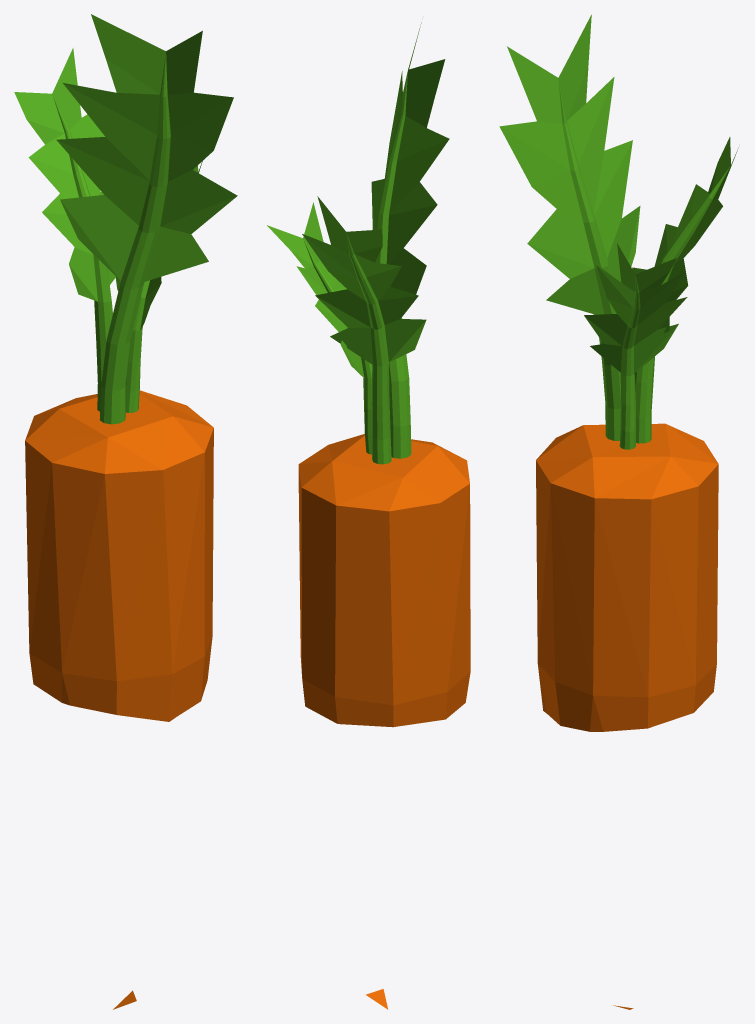
The model's file is Carrot_1.fbx.
3 views of the same model, side by side, from view 1: azimuth 30°, elevation 25°; view 2: azimuth 150°, elevation 25°; view 3: azimuth 270°, elevation 25° (orthographic). The views are drawn at different scales.
Visible parts, largest first — view 1: Cylinder.000; view 2: Cylinder.000; view 3: Cylinder.000.
Boxes of the visible parts, x1,y1,x2,y2 form: Cylinder.000: [14, 14, 237, 1009]; Cylinder.000: [267, 22, 470, 1009]; Cylinder.000: [499, 14, 738, 1009].
Size of the model in its own units: 195 by 870 by 162.
